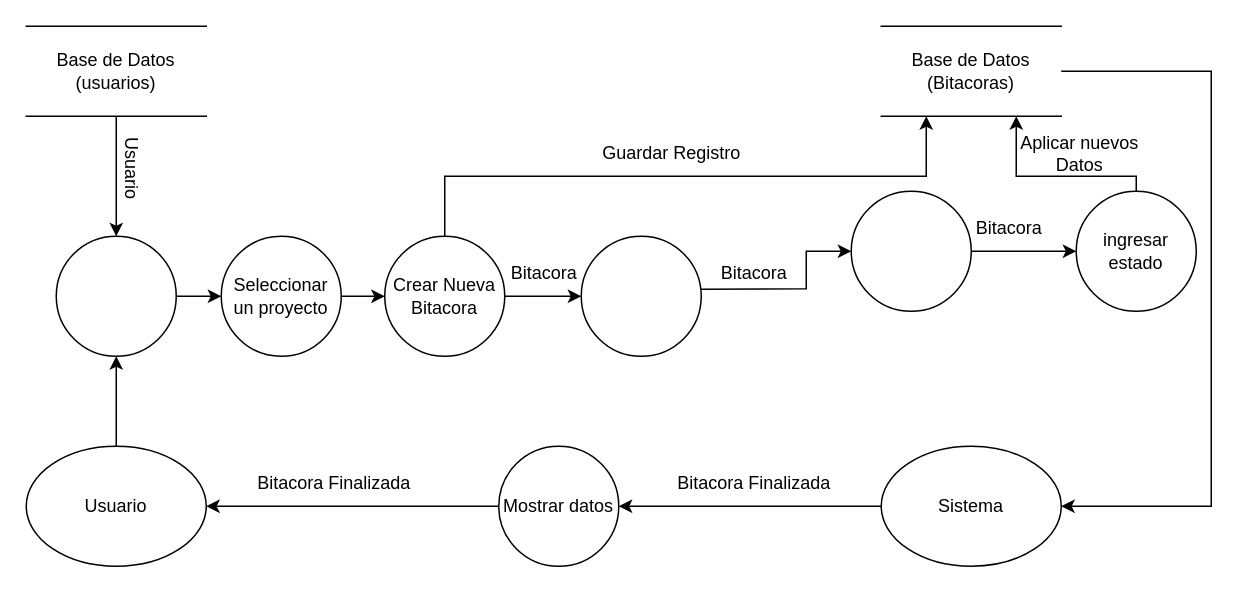
This 1250x593 diagram has some shape labels left out. Here are the shapes that lost their labels. From the top down, the centre of each, then its label:
At (x=910, y=250): "Registrar fecha".
At (x=115, y=295): "Inicia Sesion".
At (x=640, y=295): "Añadir descripcion".
